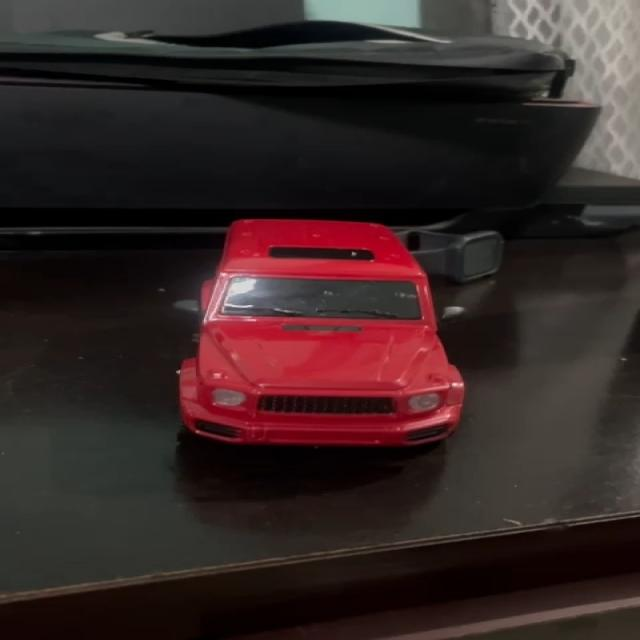light_vehicle: (174, 214, 476, 452)
